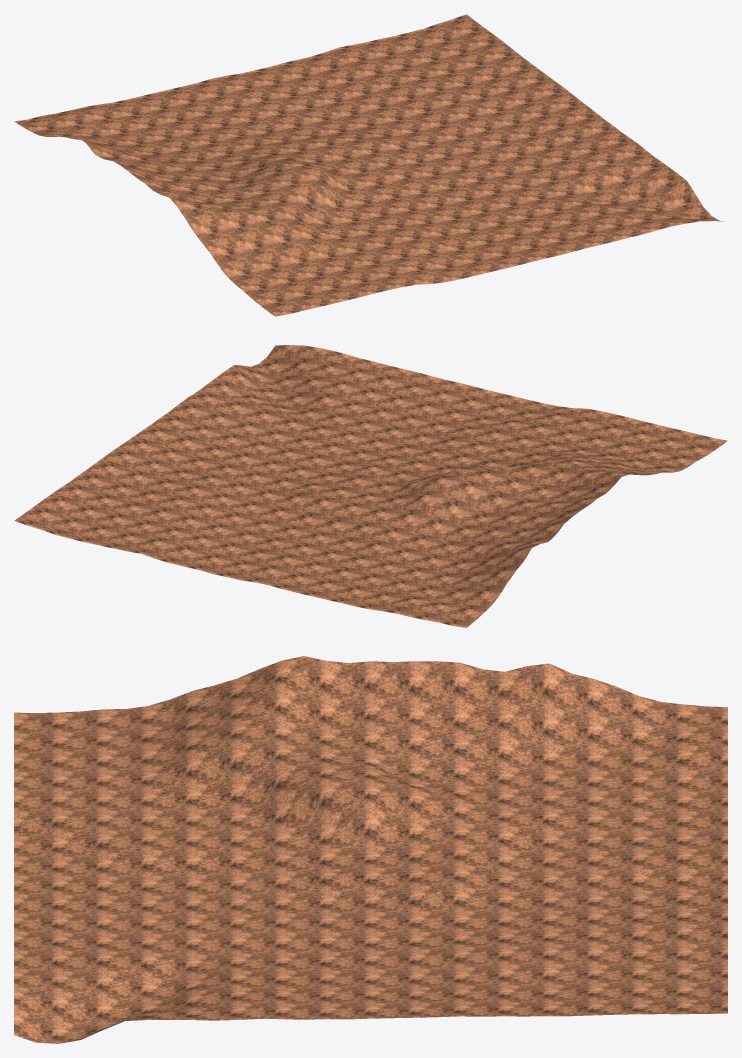
File: terrain_06_16.dae
The picture shows the model from 3 angles, top to bottom: view 1: azimuth 30°, elevation 25°; view 2: azimuth 150°, elevation 25°; view 3: azimuth 270°, elevation 25°; orthographic projection. The views are drawn at different scales.
Visible parts, largest first — view 1: terrain_06_16-node; view 2: terrain_06_16-node; view 3: terrain_06_16-node.
Boxes of the visible parts, x1=… form: terrain_06_16-node: x1=14, y1=14, x2=723, y2=316; terrain_06_16-node: x1=14, y1=345, x2=727, y2=627; terrain_06_16-node: x1=14, y1=656, x2=727, y2=1043.
Size of the model in its own units: 128 by 128 by 17.05.
1 material, 1 textured.
